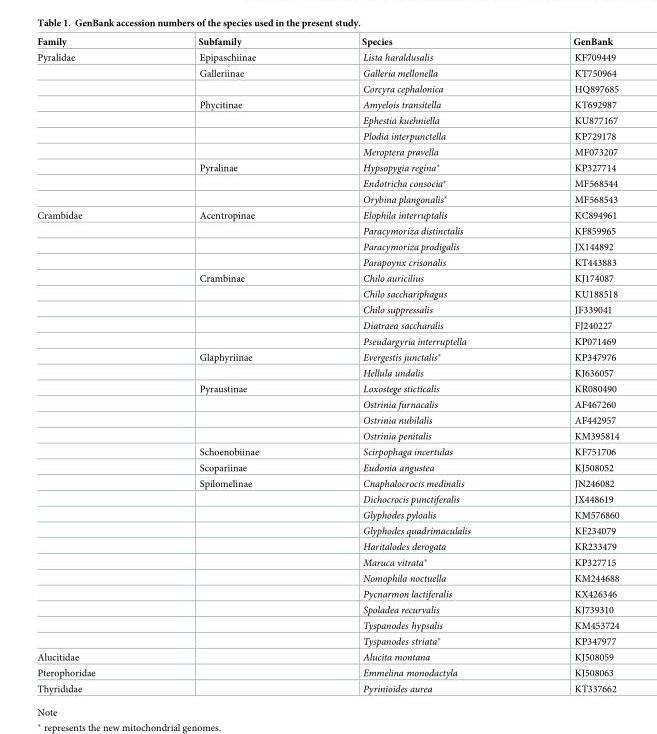table: (36, 36, 618, 694)
table column: (309, 36, 521, 694), (146, 36, 309, 694), (36, 36, 146, 694), (521, 36, 618, 694)
table column header: (36, 36, 618, 48)
table row: (36, 48, 618, 64), (36, 64, 618, 80), (36, 80, 618, 96), (36, 96, 618, 112), (36, 112, 618, 128), (36, 143, 618, 159), (36, 159, 618, 175), (36, 175, 618, 191), (36, 206, 618, 222), (36, 222, 618, 238), (36, 238, 618, 254), (36, 254, 618, 270), (36, 285, 618, 301), (36, 301, 618, 317), (36, 317, 618, 333), (36, 348, 618, 364), (36, 364, 618, 380), (36, 380, 618, 396), (36, 396, 618, 412), (36, 427, 618, 443), (36, 443, 618, 459), (36, 459, 618, 475), (36, 475, 618, 491), (36, 506, 618, 522), (36, 522, 618, 538), (36, 538, 618, 554), (36, 569, 618, 585), (36, 585, 618, 601), (36, 601, 618, 617), (36, 617, 618, 633), (36, 648, 618, 664), (36, 664, 618, 680), (36, 128, 618, 143), (36, 191, 618, 206), (36, 270, 618, 285), (36, 333, 618, 348), (36, 412, 618, 427), (36, 491, 618, 506), (36, 554, 618, 569), (36, 633, 618, 648), (36, 680, 618, 694), (36, 36, 618, 48)
table spanning cell: (36, 206, 146, 648), (36, 48, 146, 206)
